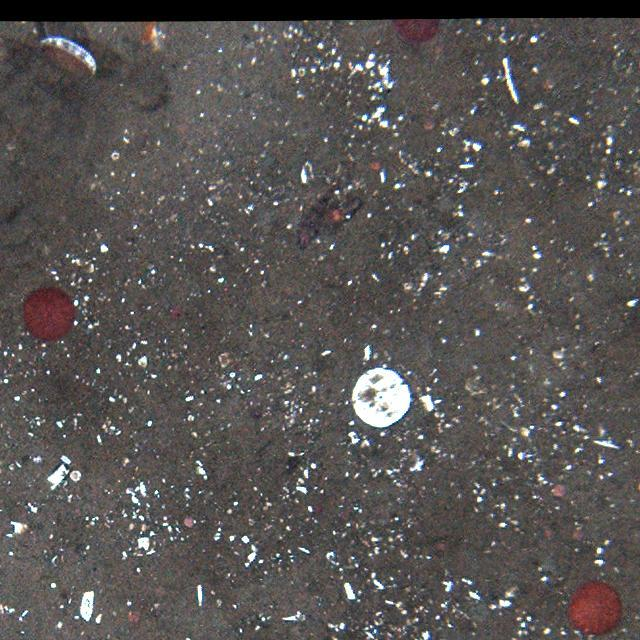flatfish: (296, 187, 363, 249)
